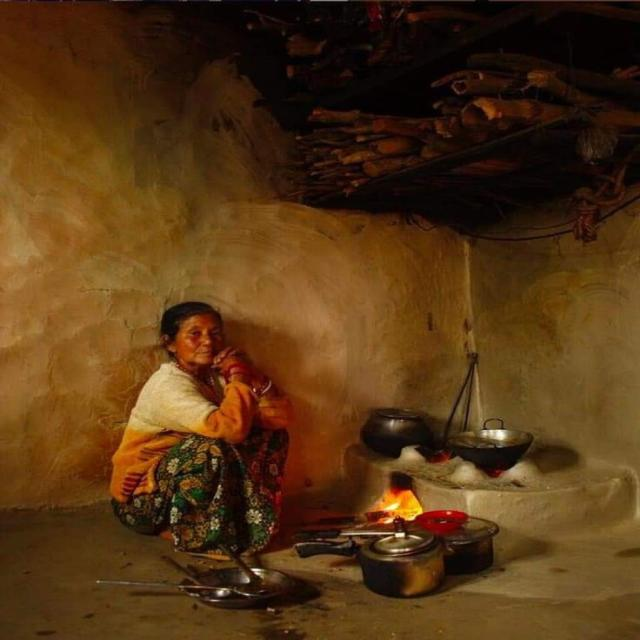fire: (370, 489, 423, 524)
